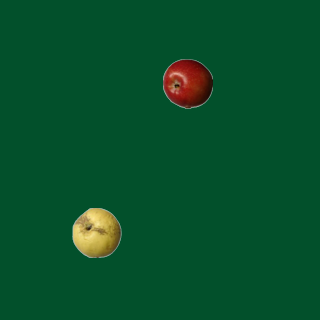Apple Braeburn: (162, 58, 212, 108)
Apple Golden 1: (71, 207, 121, 257)
